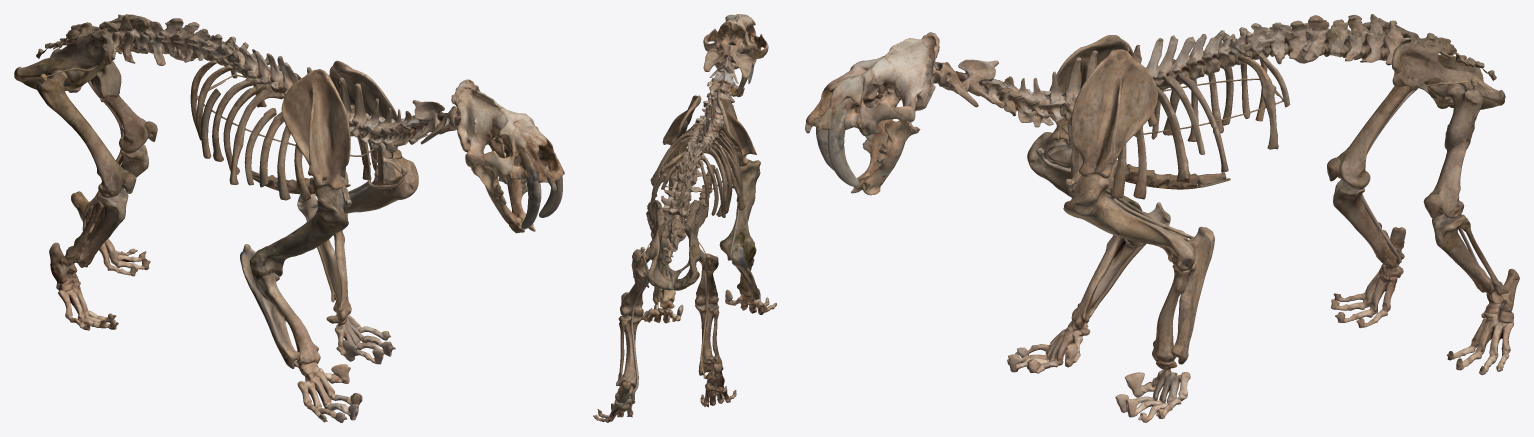
Rendered from saber-toothed_cat_nhmw-geo-191001020001.glb.
3 renders of one model, left to right at view 1: azimuth 30°, elevation 25°; view 2: azimuth 150°, elevation 25°; view 3: azimuth 270°, elevation 25°, orthographic. The views are drawn at different scales.
Visible parts, largest first — view 1: Object_3, Object_2; view 2: Object_3, Object_2, Object_4; view 3: Object_3, Object_2.
Boxes of the visible parts, left/top/right/bottom form: Object_3: left=14, top=14, right=564, bottom=419; Object_2: left=14, top=17, right=551, bottom=422; Object_3: left=593, top=14, right=768, bottom=422; Object_2: left=596, top=15, right=776, bottom=421; Object_4: left=694, top=144, right=743, bottom=243; Object_3: left=805, top=14, right=1510, bottom=421; Object_2: left=823, top=14, right=1519, bottom=422.
Size of the model in its own units: 0.8264 by 1.08 by 1.85.
Materials: 1 (1 with a texture image).
